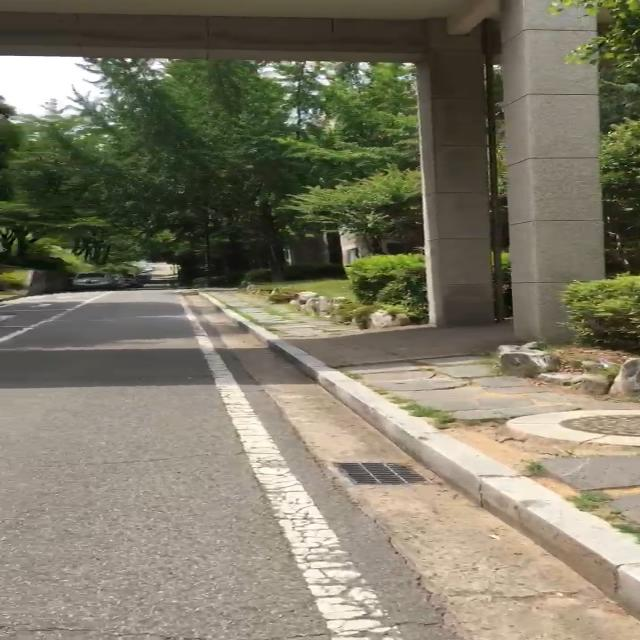obstacle: (69, 268, 155, 290)
road: (0, 290, 640, 640)
sidewalk: (330, 362, 640, 563), (206, 286, 352, 337)
